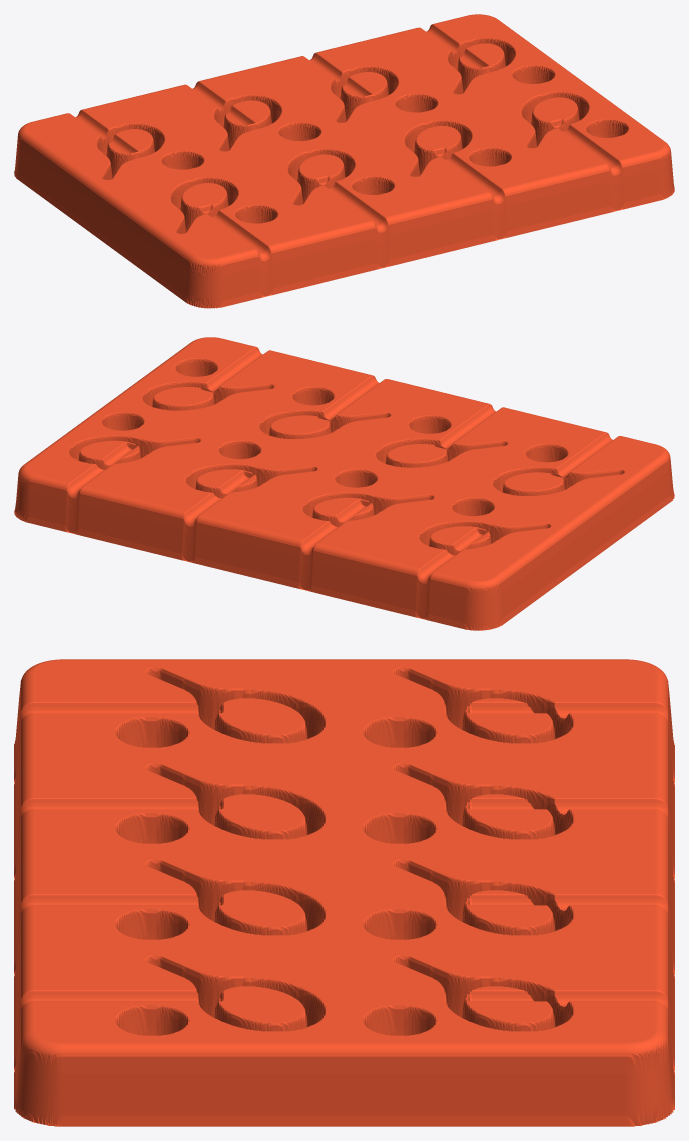
File: mold.glb
3 renders of one model, top to bottom at view 1: azimuth 30°, elevation 25°; view 2: azimuth 150°, elevation 25°; view 3: azimuth 270°, elevation 25°, orthographic. The views are drawn at different scales.
Parts seen in each view (by area): view 1: geometry_0; view 2: geometry_0; view 3: geometry_0.
Boxes of the visible parts, x1,y1,x2,y2 form: geometry_0: (14,14,674,308); geometry_0: (14,337,674,630); geometry_0: (14,659,674,1126).
Bounding box in the file's own units: 0.1754 × 0.0155 × 0.1229.
